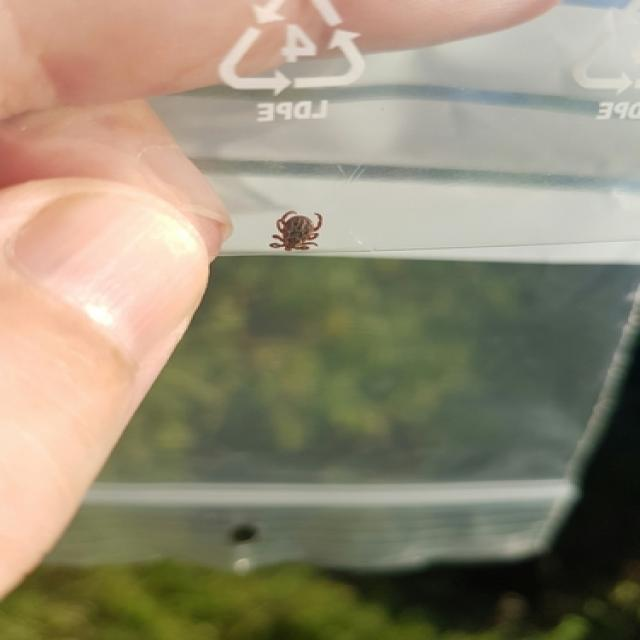Dermacentor Reticulatus-M: (270, 210, 321, 255)
